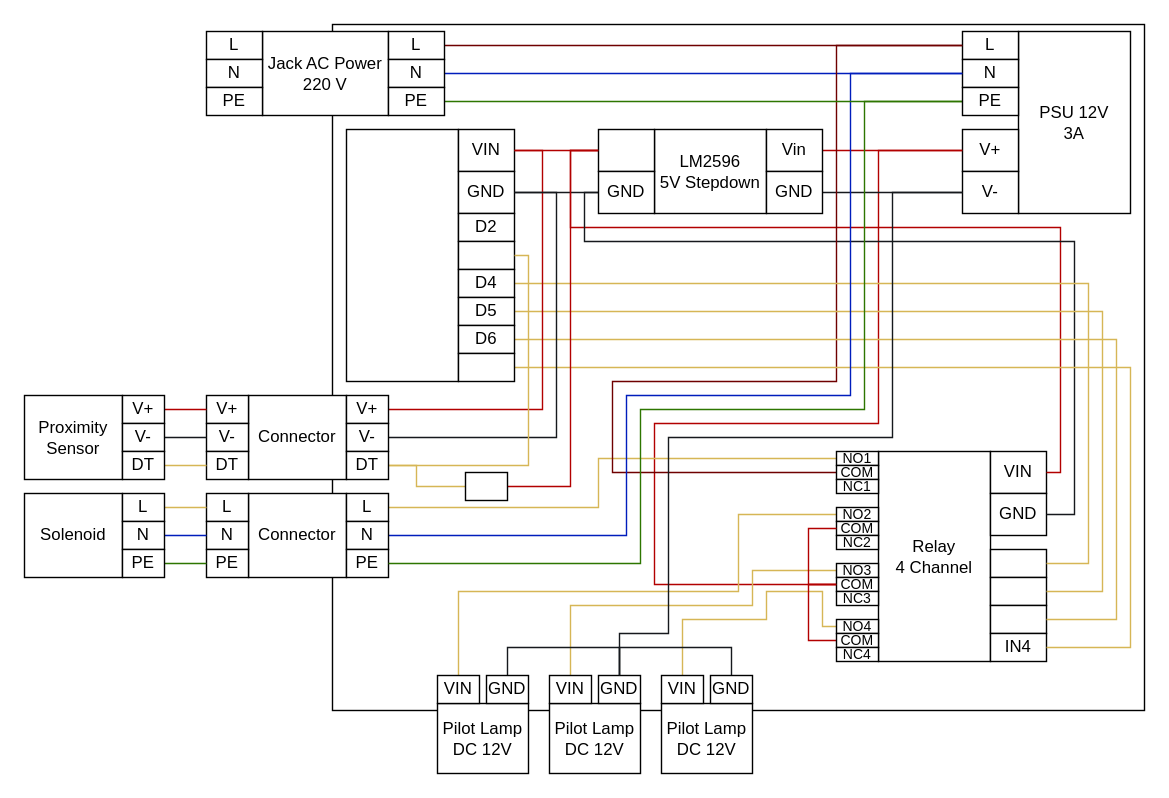
The diagram is 1169 pixels wide and 798 high, and some of its shapes have lost their labels. The shapes that lost their labels are listed below. From the top down, each one's centre as x and y in pixels, then its label:
the point at 625,150: Vout
the point at 401,255: Arduino Uno
the point at 485,255: D3
the point at 485,367: D7
the point at 485,485: R Pull Up 10K
the point at 1017,563: IN1
the point at 1017,591: IN2
the point at 1017,619: IN3
